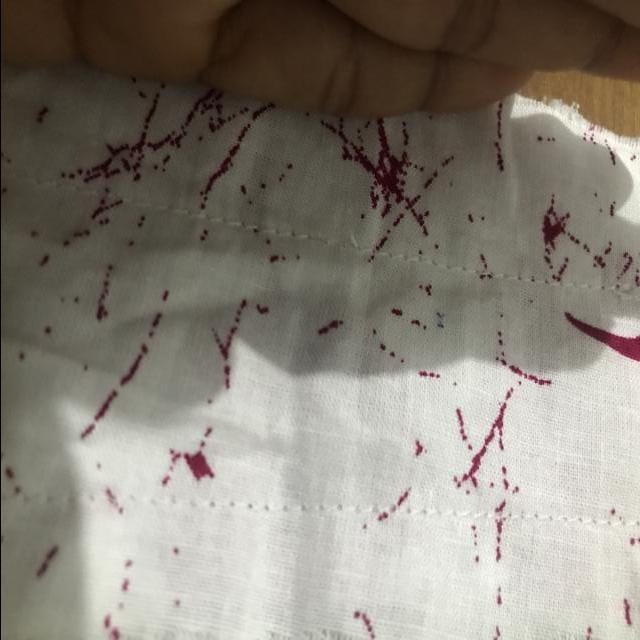Broken: (310, 231, 378, 269)
